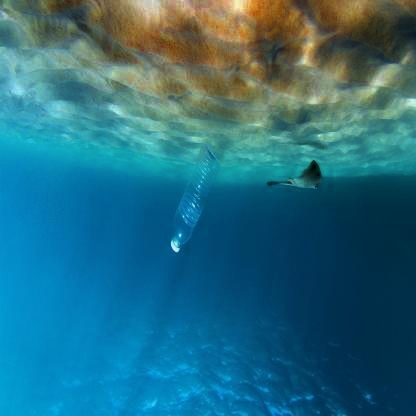pbottle: (169, 138, 221, 262)
